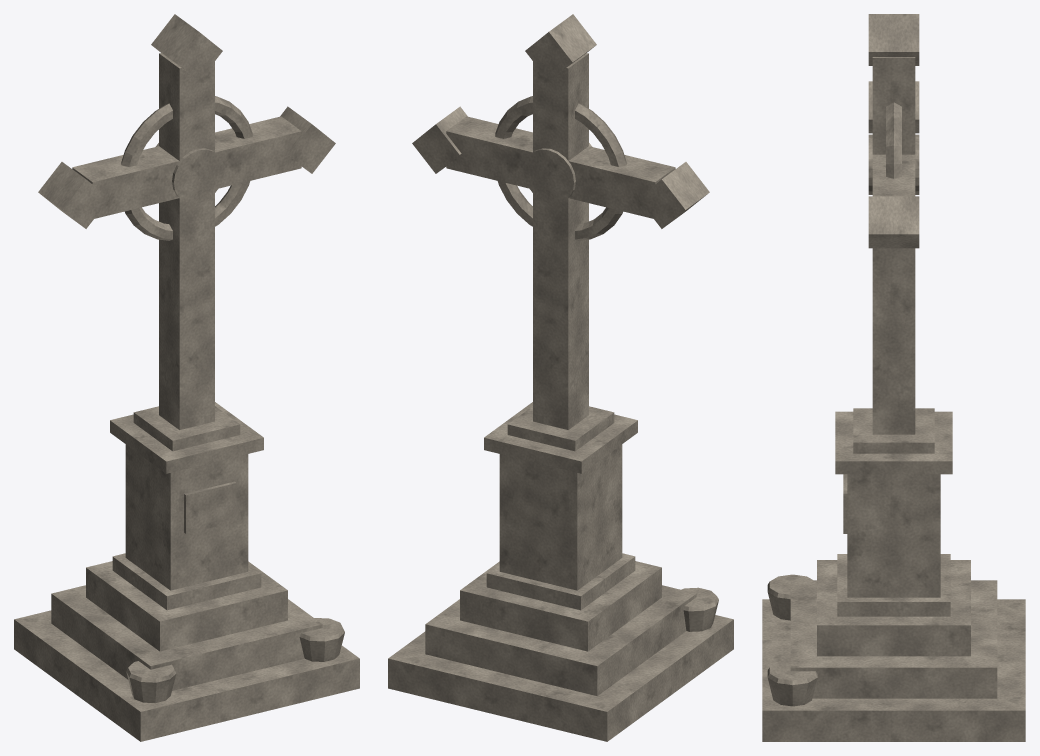
The model's file is cruz_atrial.obj.
The picture shows the model from 3 angles, left to right: view 1: azimuth 30°, elevation 25°; view 2: azimuth 150°, elevation 25°; view 3: azimuth 270°, elevation 25°; orthographic projection. The views are drawn at different scales.
Parts seen in each view (by area): view 1: Cruz_Atrial; view 2: Cruz_Atrial; view 3: Cruz_Atrial.
Part boxes in pixels (x1=…): Cruz_Atrial: x1=14, y1=14, x2=359, y2=741; Cruz_Atrial: x1=388, y1=14, x2=733, y2=741; Cruz_Atrial: x1=762, y1=14, x2=1025, y2=741.
Size of the model in its own units: 1.62 by 3.66 by 1.3.
1 material, 1 textured.
